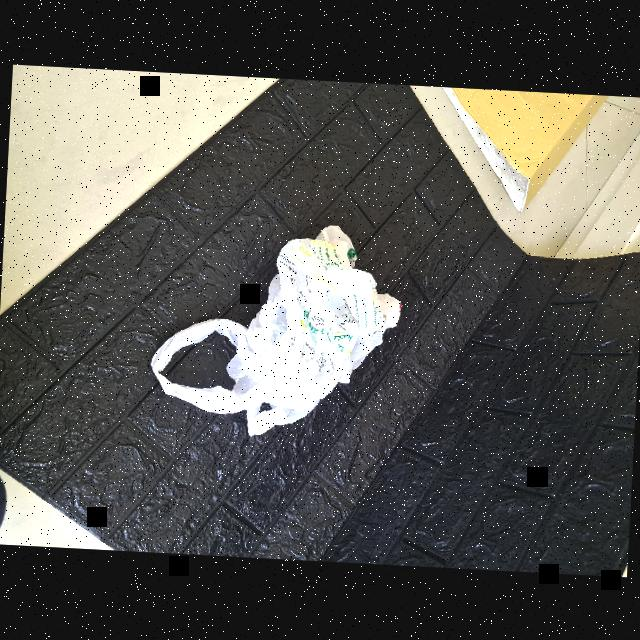plastic_bag: (150, 214, 407, 442)
